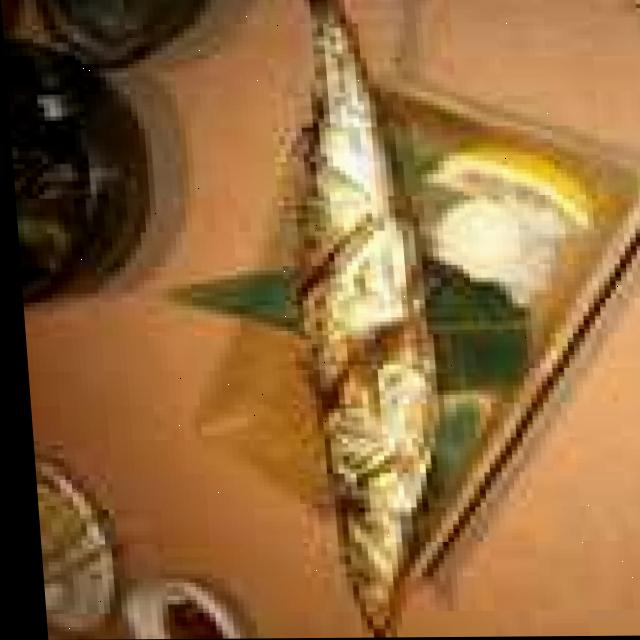熟制海鲜: (250, 0, 450, 639)
